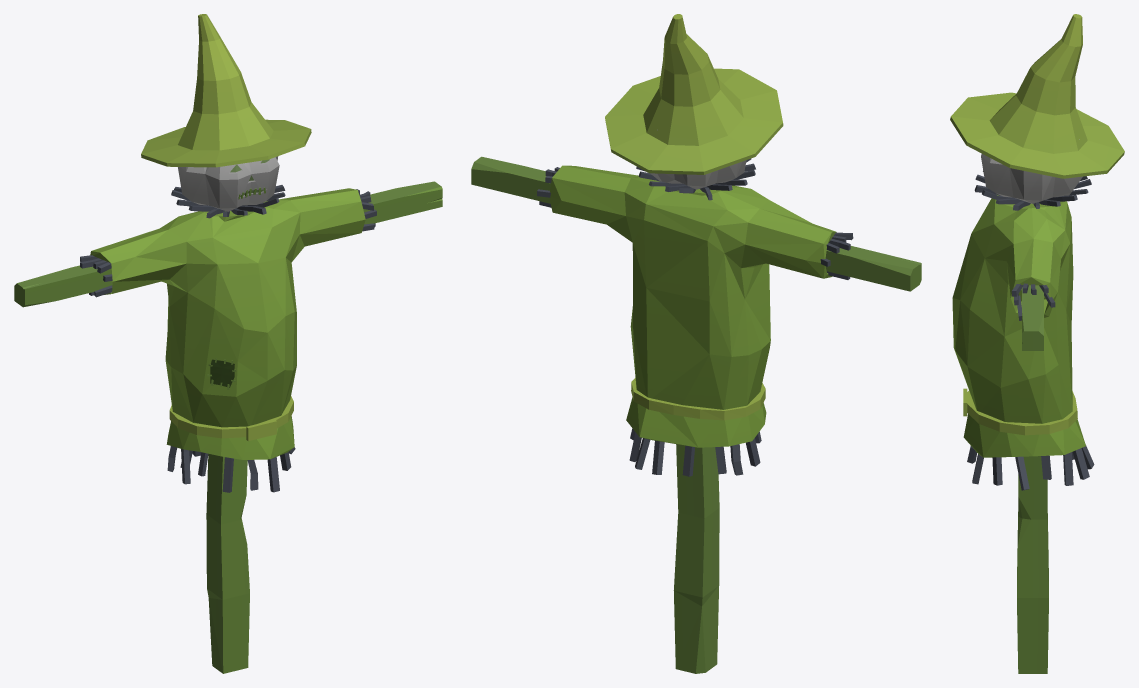
The model's file is Scarecrow_01.fbx.
3 renders of one model, left to right at view 1: azimuth 30°, elevation 25°; view 2: azimuth 150°, elevation 25°; view 3: azimuth 270°, elevation 25°, orthographic. The views are drawn at different scales.
Parts seen in each view (by area): view 1: Scarecrow_01; view 2: Scarecrow_01; view 3: Scarecrow_01.
Boxes of the visible parts, bbox=[...] form: Scarecrow_01: bbox=[14, 14, 442, 673]; Scarecrow_01: bbox=[471, 14, 921, 673]; Scarecrow_01: bbox=[950, 14, 1124, 673].
Size of the model in its own units: 1.7 by 2.47 by 0.6028.
